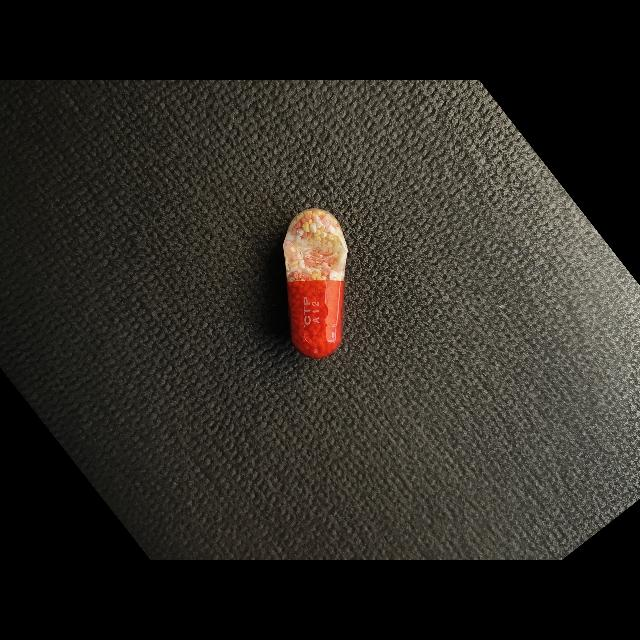Defective Capsule: (283, 208, 348, 358)
